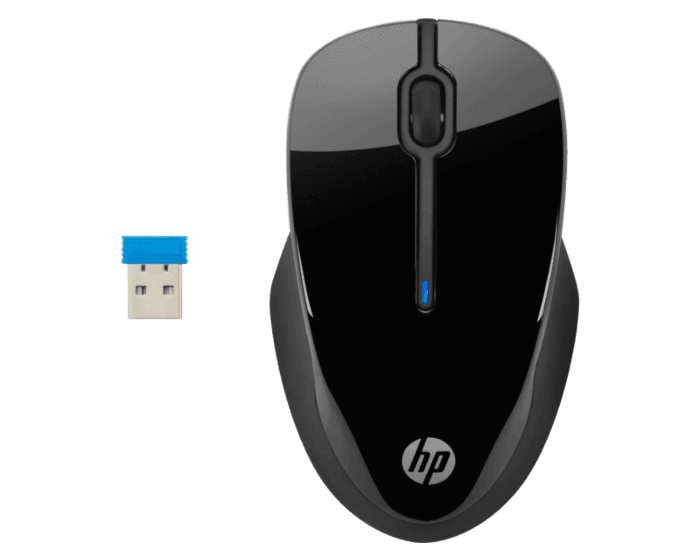Mouse: (261, 13, 591, 554)
